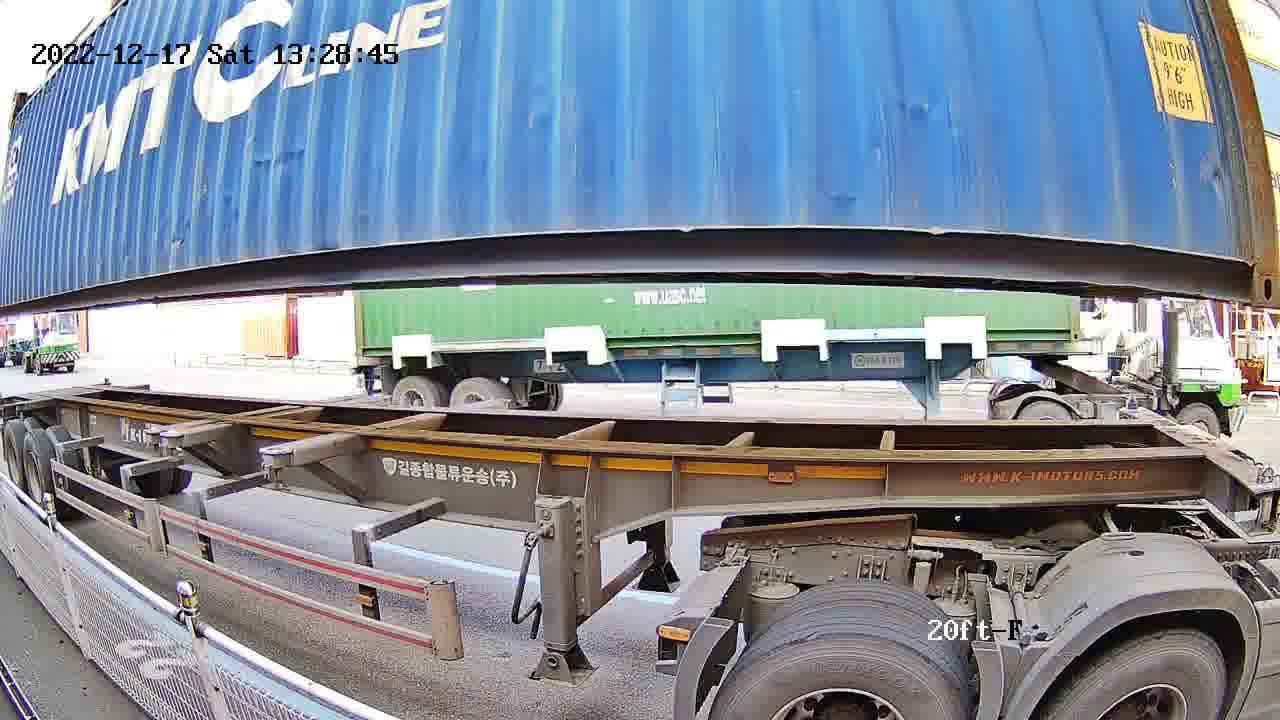Chassis: (1119, 406, 1279, 495)
Cone: (1246, 460, 1276, 533), (1123, 393, 1143, 409)
Hole_R: (1214, 227, 1279, 306)
Tire: (709, 638, 949, 719), (1049, 637, 1228, 719)
